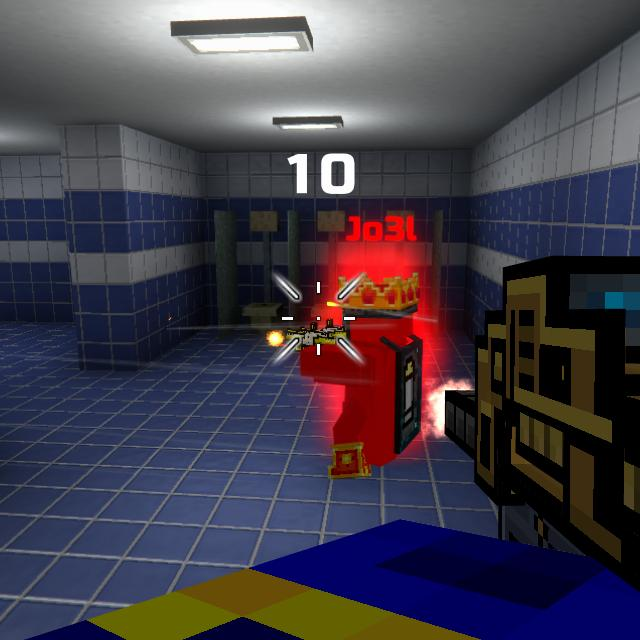Enemy: (304, 282, 428, 480)
